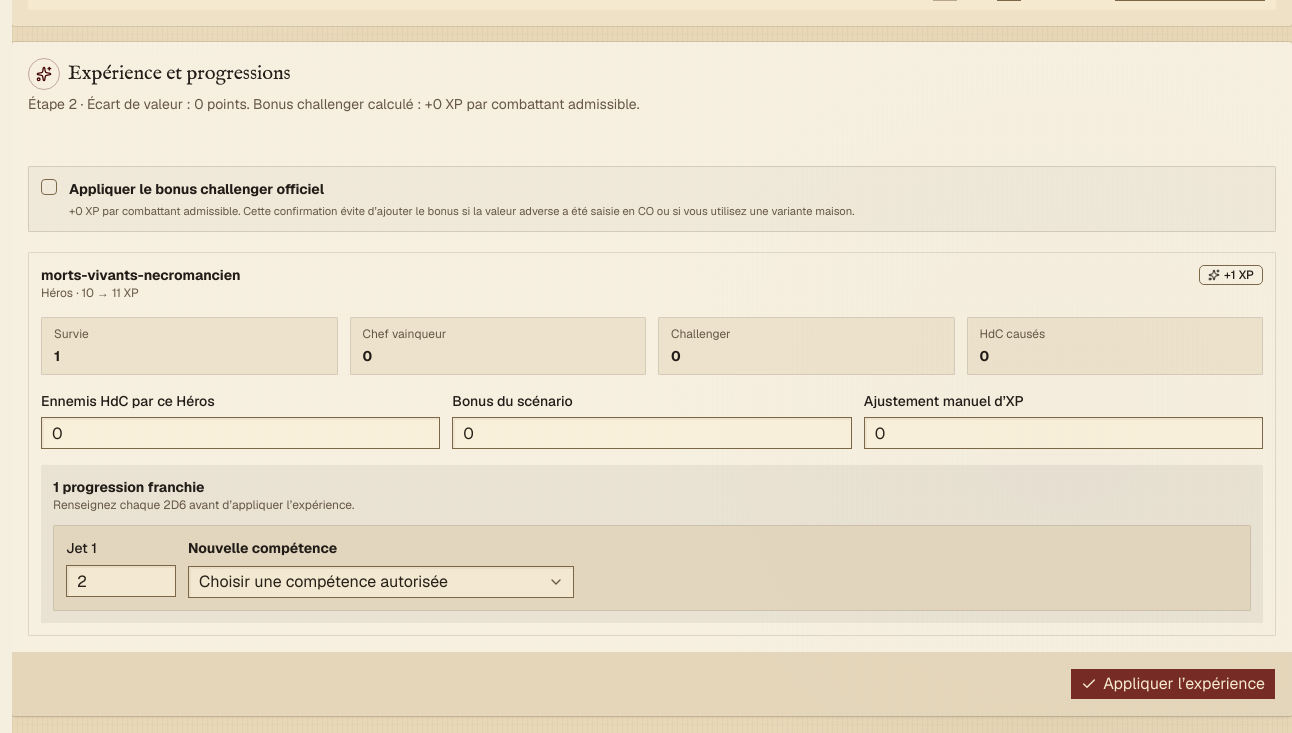
Scenario: régressions après-bataille relevées par audit › refuse d’améliorer un pouvoir inconnu
This screenshot has width=1292, height=733.
(page scrolled)
Click the button "Appliquer l’expérience".
click(1173, 684)  # box [1070,668,1276,700]
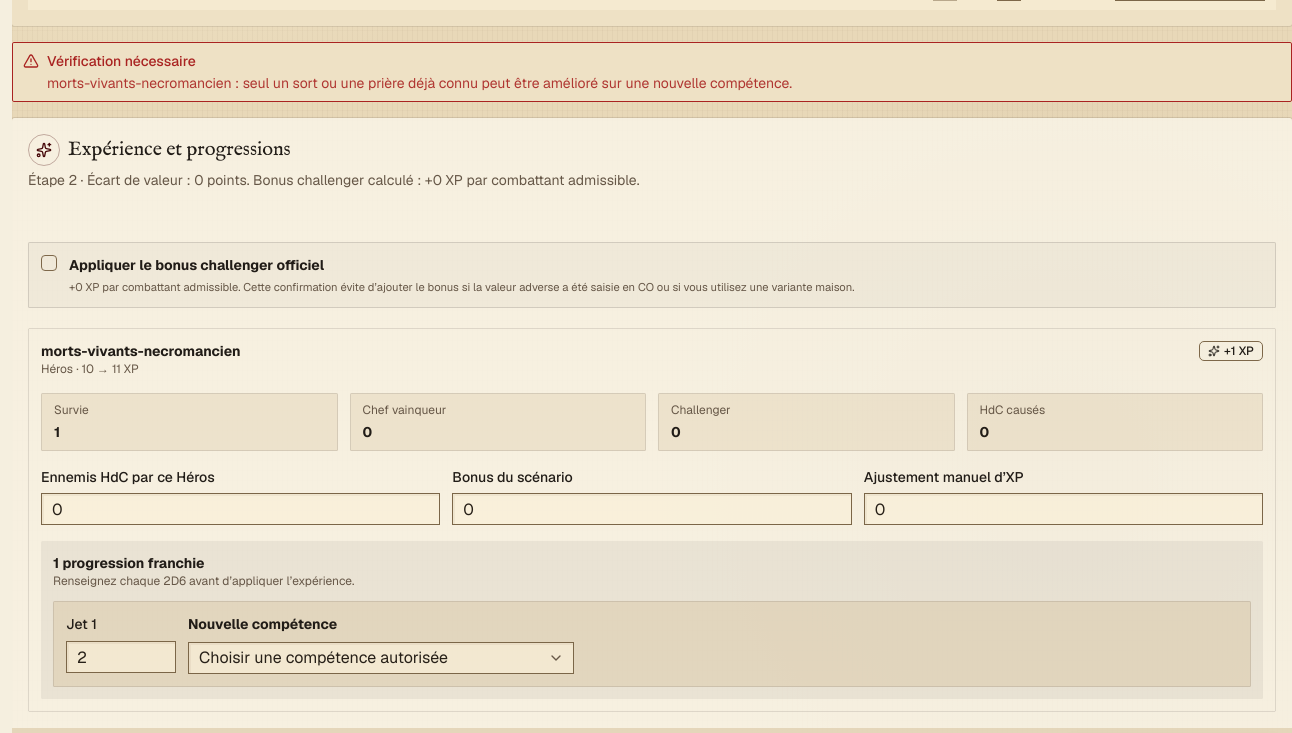
expect the text "seul un sort ou une prière déjà connu" is shown: met, box [47,74,792,92]
